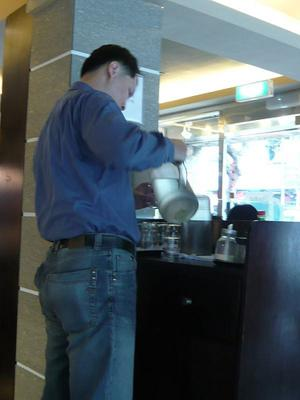person: (33, 44, 187, 400)
